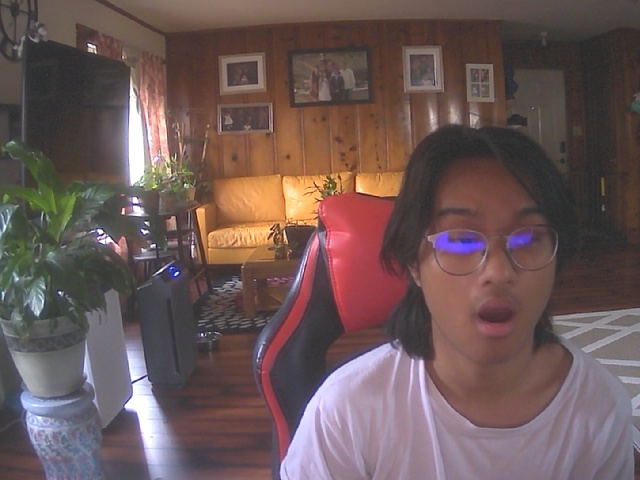fear: (400, 139, 569, 369)
